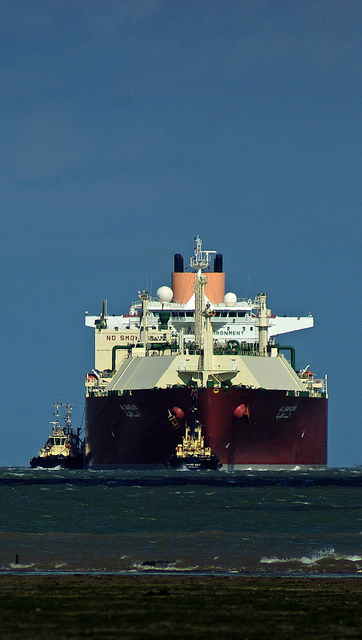LNG_ship: (76, 239, 337, 466)
tug_boat: (151, 404, 217, 470), (32, 410, 77, 468)
